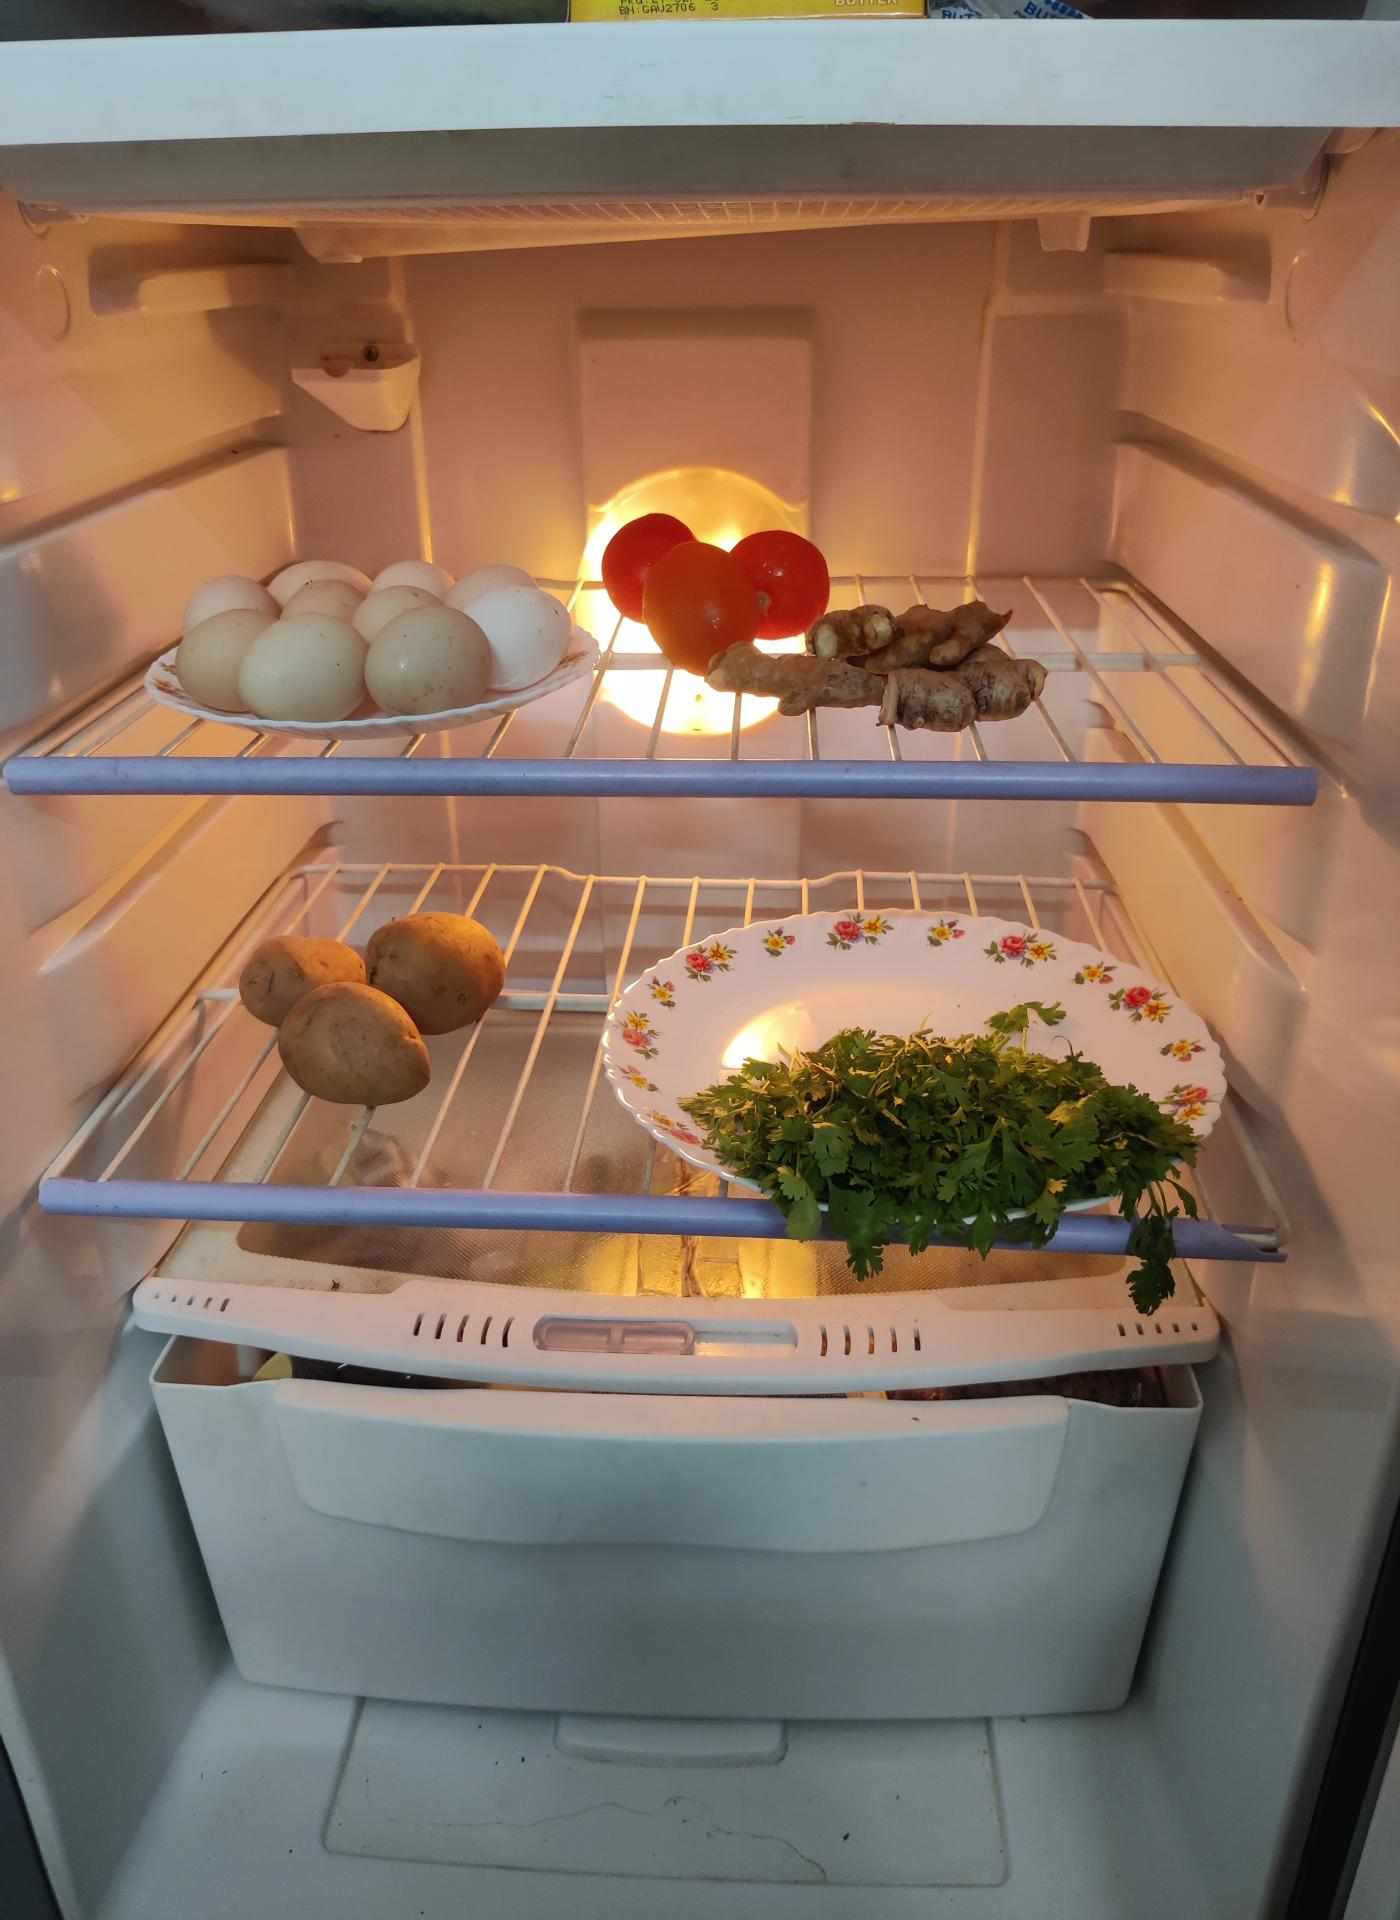coriander: (687, 1026, 1196, 1248)
egg: (180, 537, 581, 714)
ginger: (759, 602, 1042, 729)
potato: (245, 909, 505, 1105)
tomato: (604, 520, 838, 675)
